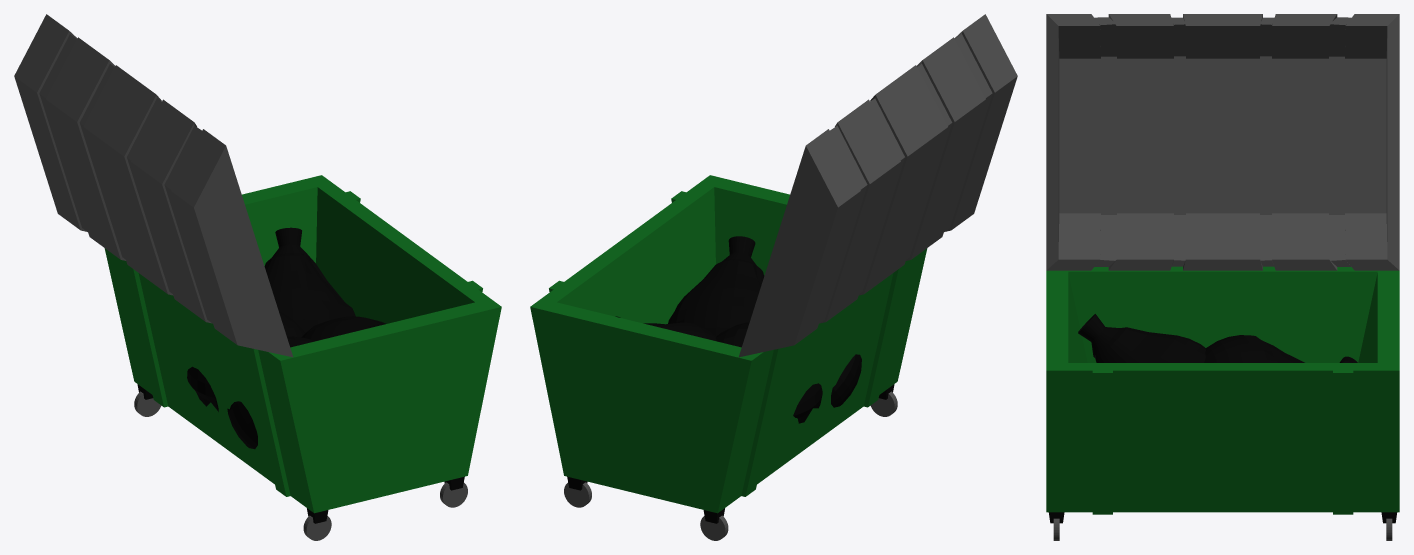
Rendered from OpenBigBin.fbx.
The picture shows the model from 3 angles, left to right: view 1: azimuth 30°, elevation 25°; view 2: azimuth 150°, elevation 25°; view 3: azimuth 270°, elevation 25°; orthographic projection.
Parts seen in each view (by area): view 1: LargeBin Open; view 2: LargeBin Open; view 3: LargeBin Open.
Part boxes in pixels (left/top/right/bottom): LargeBin Open: left=14, top=14, right=501, bottom=540; LargeBin Open: left=530, top=14, right=1017, bottom=540; LargeBin Open: left=1046, top=14, right=1399, bottom=540.
Size of the model in its own units: 4.07 by 5.24 by 4.06.
